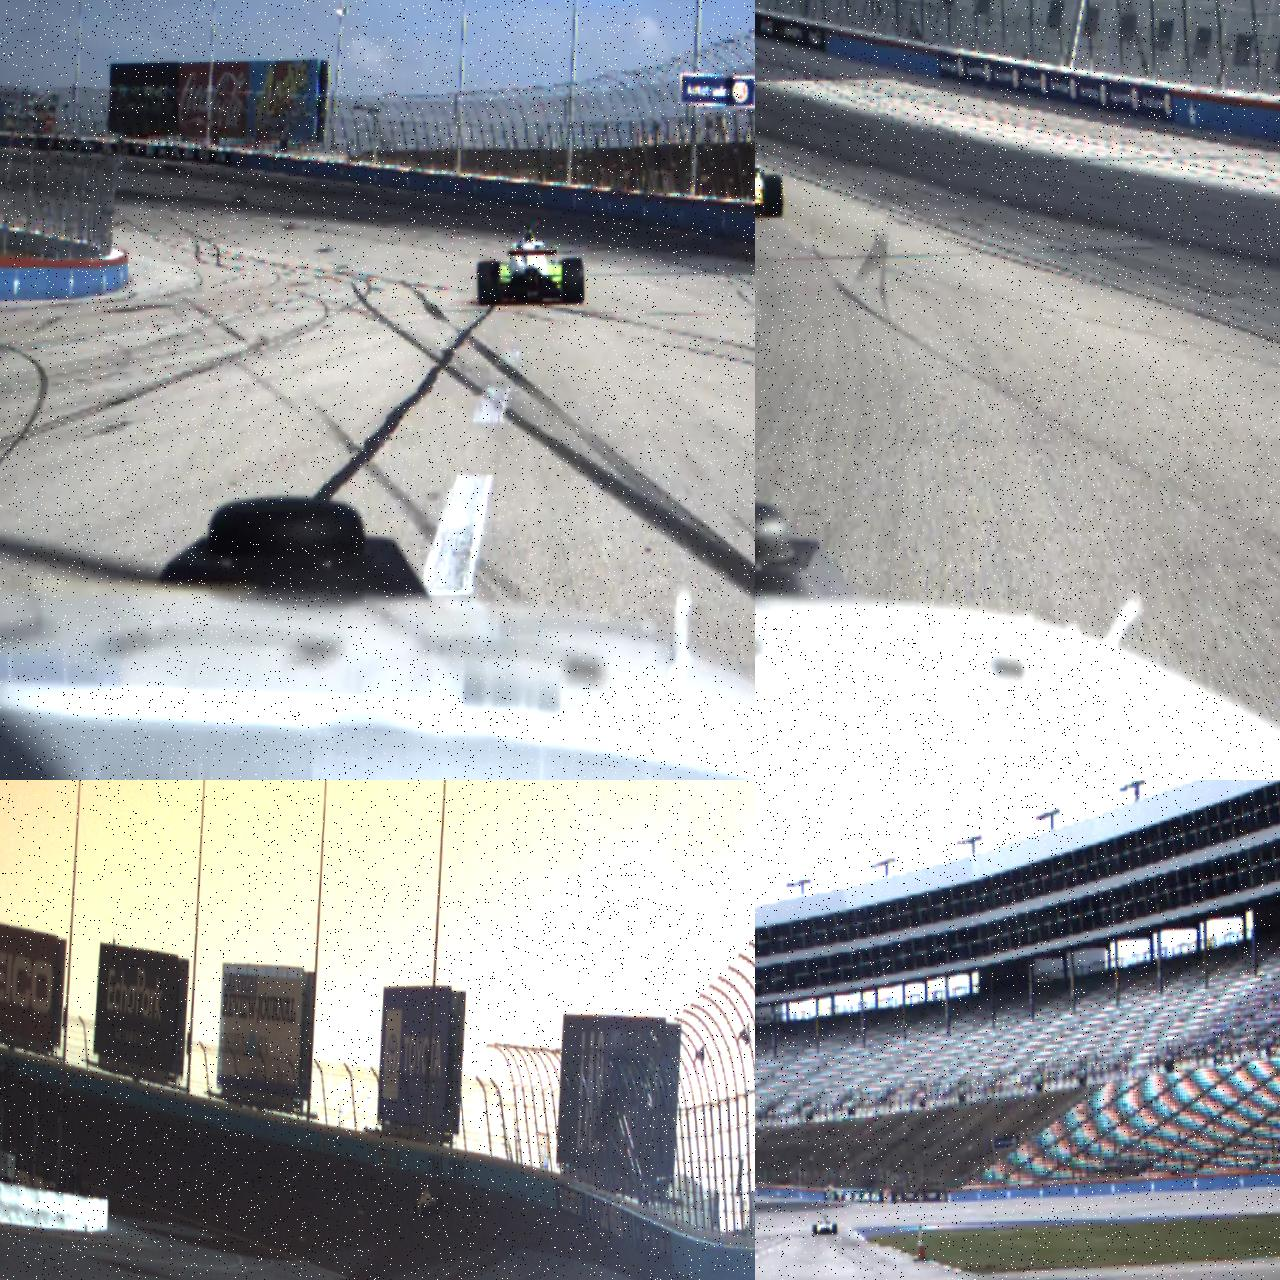AV: (476, 218, 585, 306), (755, 137, 784, 220), (410, 1183, 443, 1219), (812, 1214, 838, 1235)
Wheel: (561, 257, 585, 304), (477, 259, 501, 305), (764, 173, 783, 218), (420, 1203, 425, 1218), (437, 1196, 443, 1211), (410, 1200, 415, 1216), (812, 1225, 817, 1235), (833, 1224, 837, 1234)
